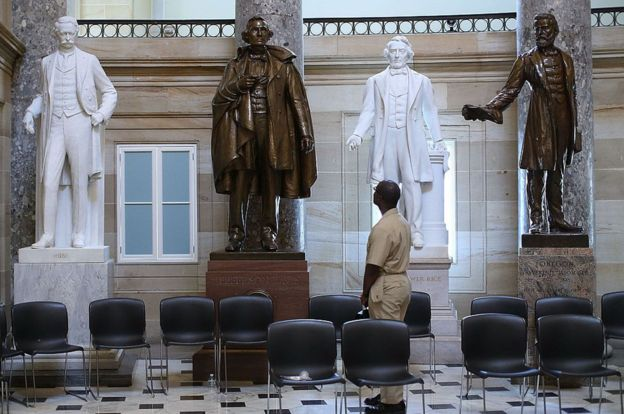person: (354, 178, 419, 414)
person-like: (458, 8, 589, 238), (209, 13, 322, 254), (20, 13, 120, 253), (344, 31, 448, 252)
